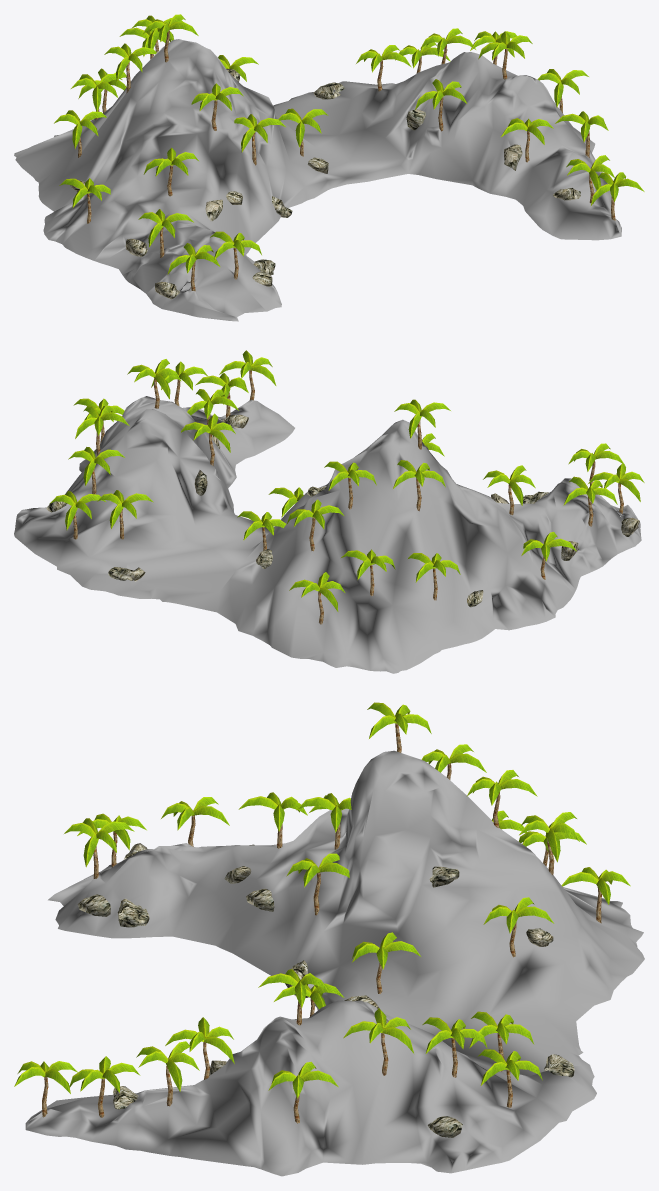
Rendered from island_04.fbx.
The picture shows the model from 3 angles, top to bottom: view 1: azimuth 30°, elevation 25°; view 2: azimuth 150°, elevation 25°; view 3: azimuth 270°, elevation 25°; orthographic projection. The views are drawn at different scales.
Visible parts, largest first — view 1: island_04; view 2: island_04; view 3: island_04.
Boxes of the visible parts, x1=… form: island_04: x1=14, y1=14, x2=644, y2=321; island_04: x1=14, y1=350, x2=644, y2=673; island_04: x1=14, y1=702, x2=644, y2=1176.
Bounding box in the file's own units: 75.91 × 27.33 × 64.67.
